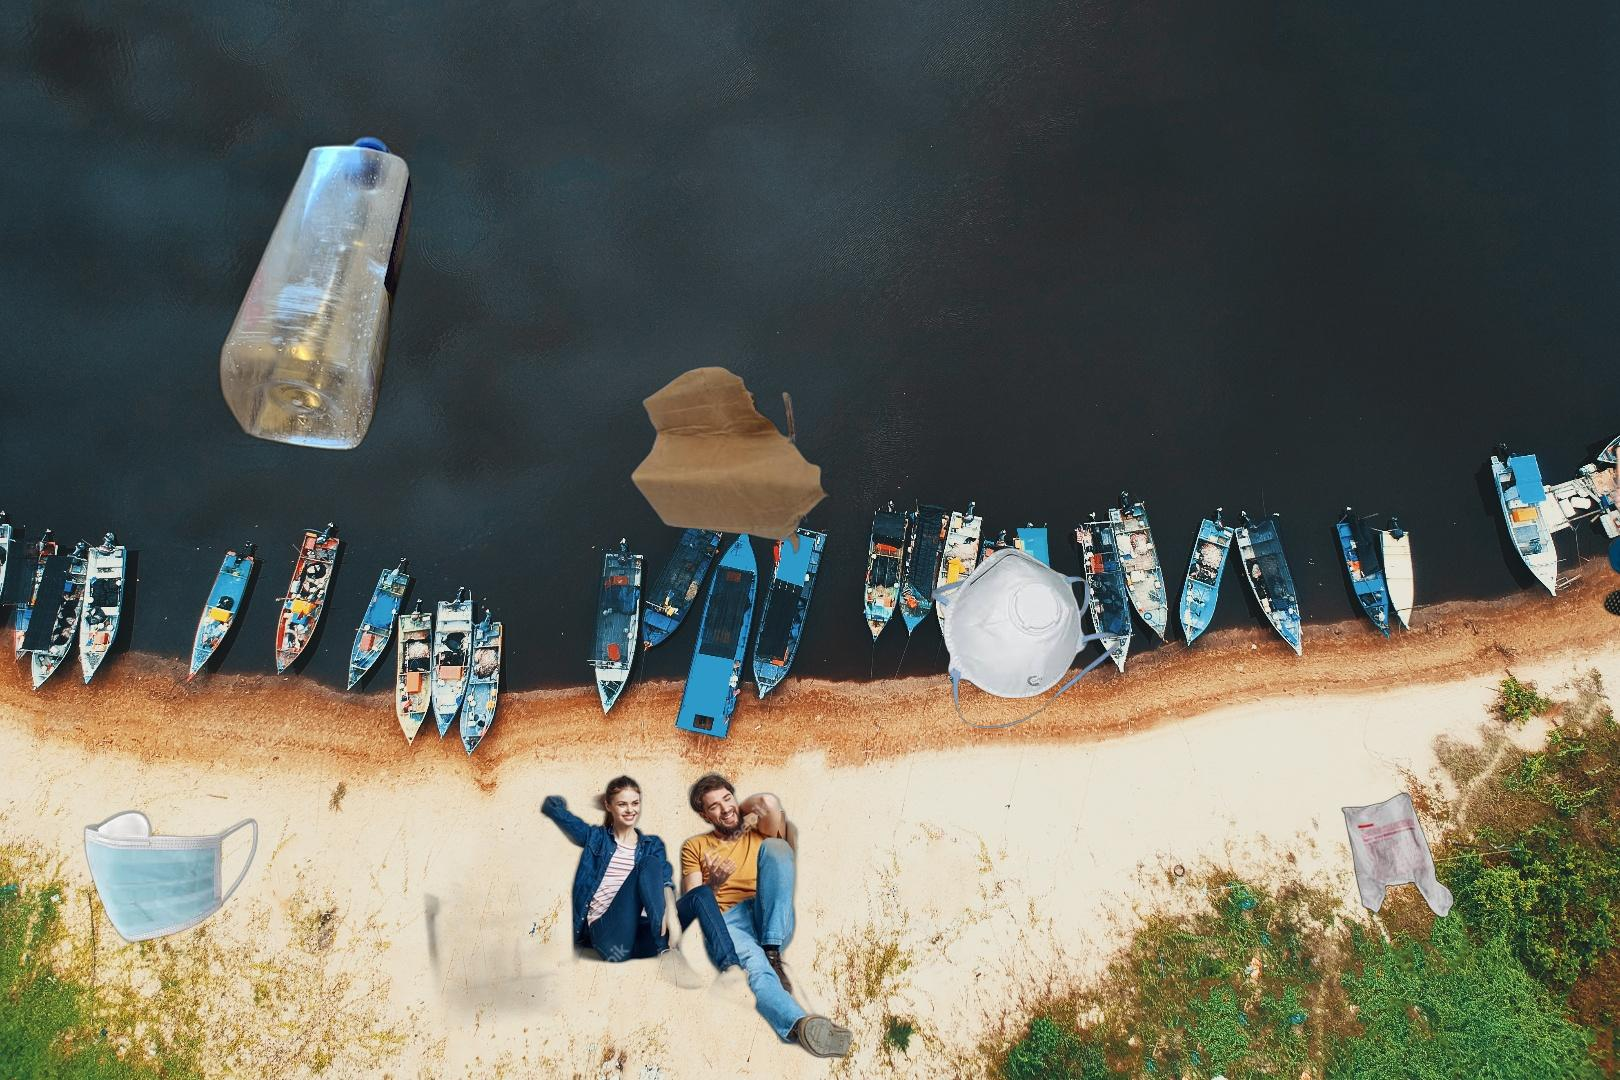plastic-bag: (1340, 791, 1457, 921)
plastic-bottles: (215, 130, 417, 456)
trash: (929, 545, 1122, 730), (81, 808, 262, 945)
trashbox-cardboard: (419, 762, 968, 1062), (627, 365, 835, 556), (1580, 316, 1620, 636)
